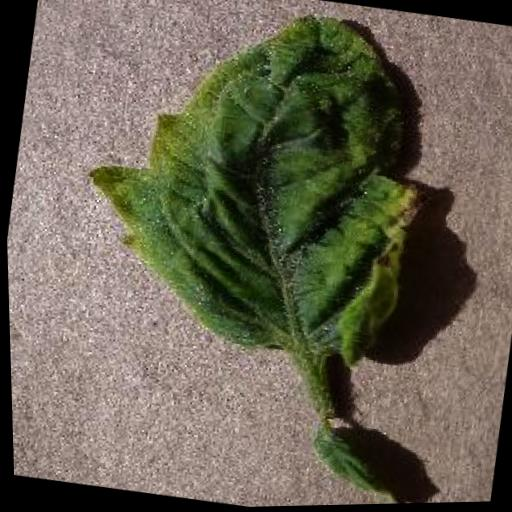Yellow Leaf Curl Virus: (61, 0, 448, 381)
